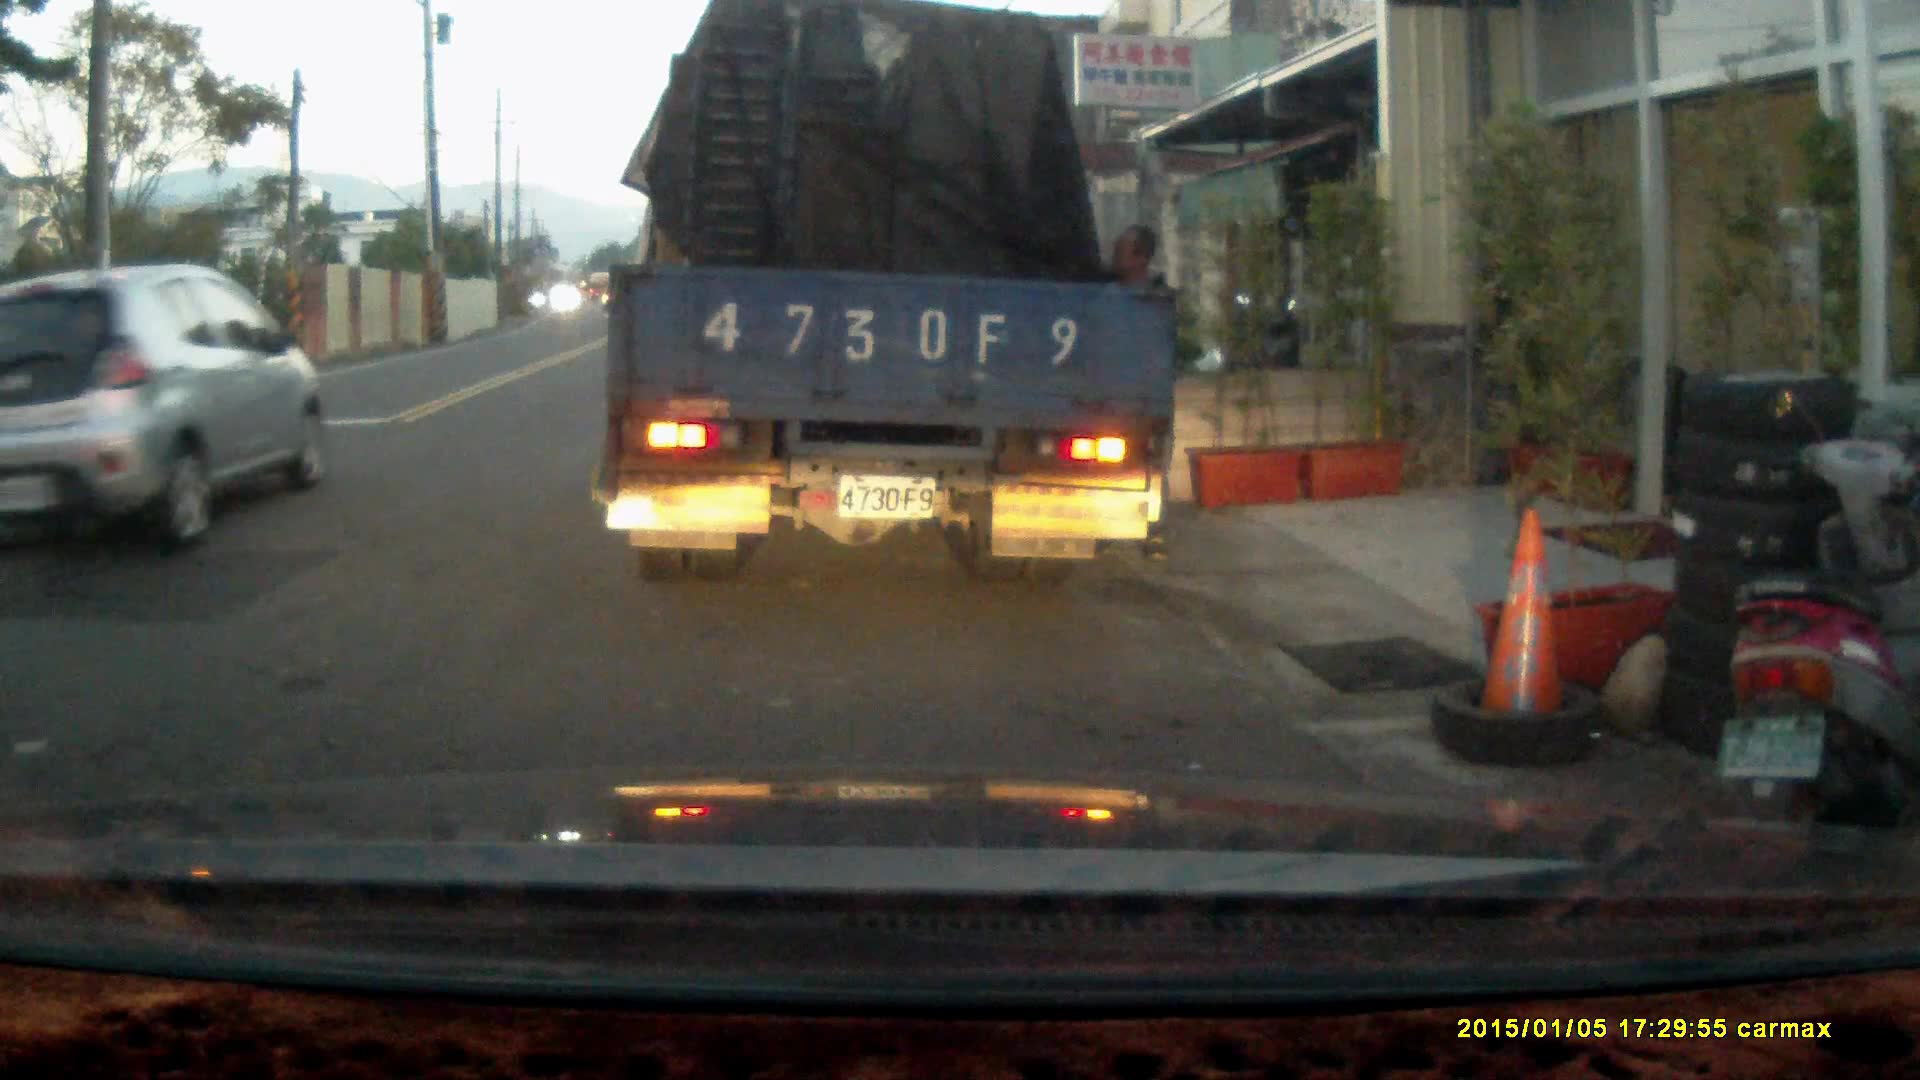pedestrian: (1084, 223, 1185, 567)
vehicle: (601, 23, 1185, 572), (1, 265, 329, 550)
